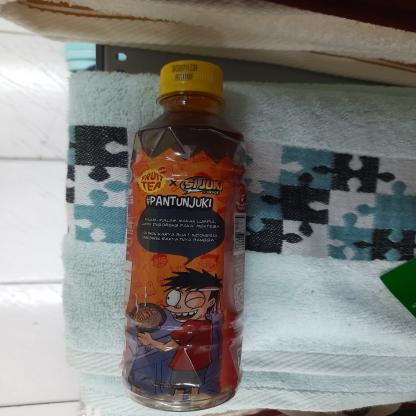bottle: (116, 54, 249, 415)
